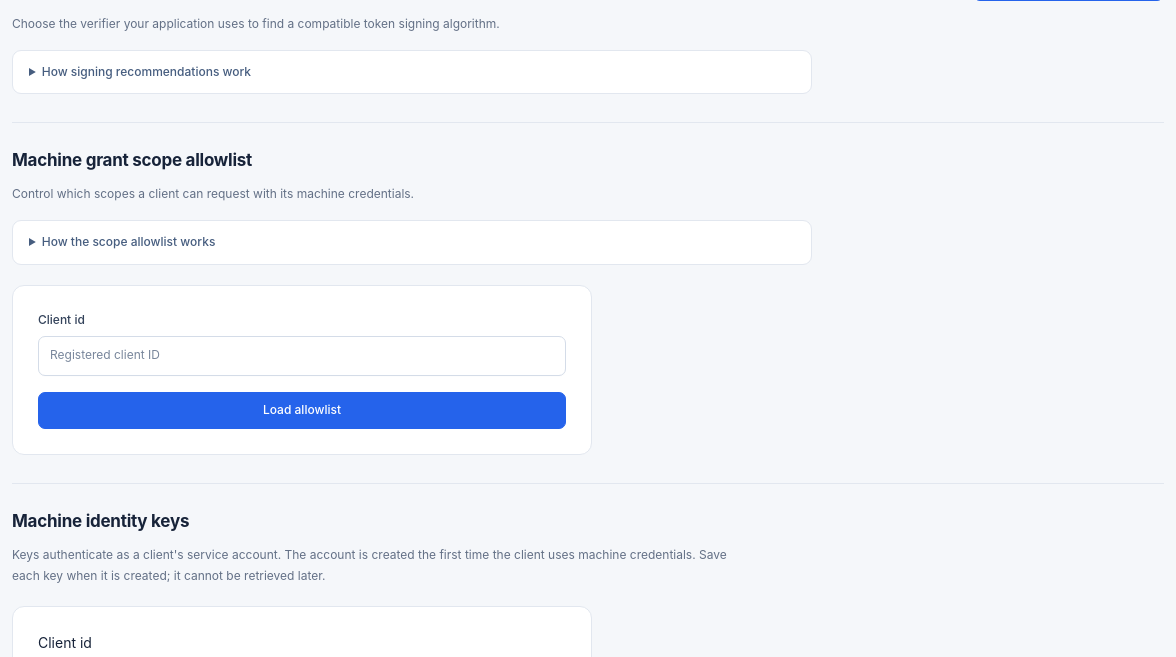
Scenario: the panel keeps the three server states distinct › renders an EMPTY allowlist as 'no scope at all', never as unrestricted
(page scrolled)
Type "cli_a" into the field with id "allowed-scopes-client-id".
click(302, 356); type("cli_a")  # box x1=38 y1=336 x2=566 y2=376
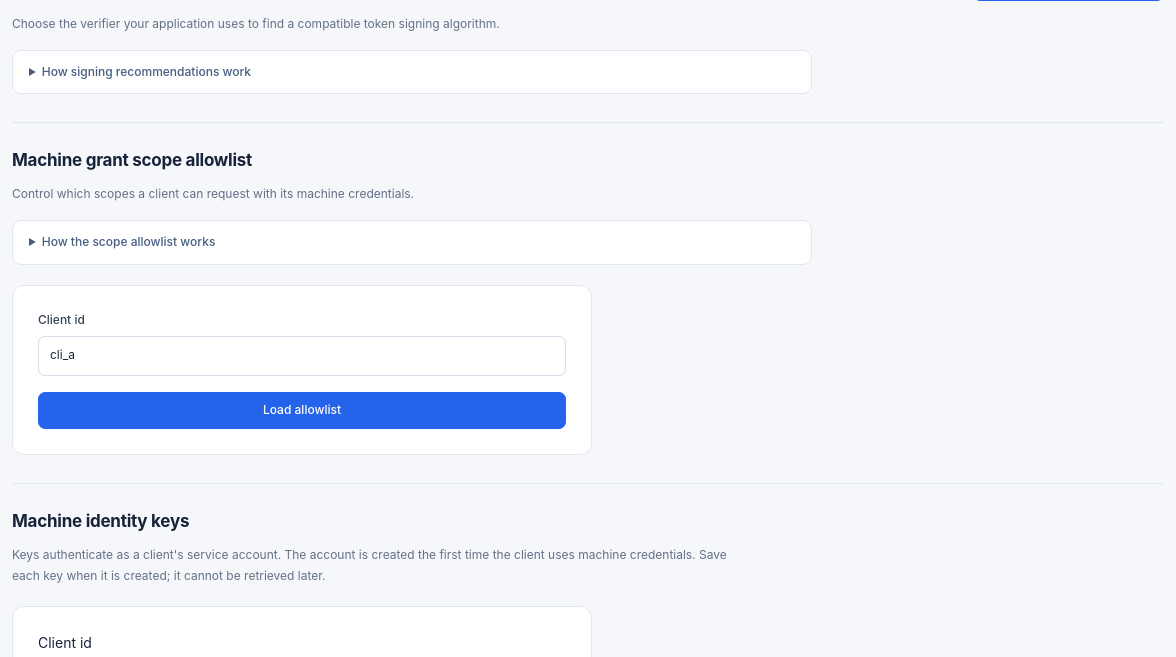
Click the button "Load allowlist".
click(302, 410)  # box x1=38 y1=392 x2=566 y2=429
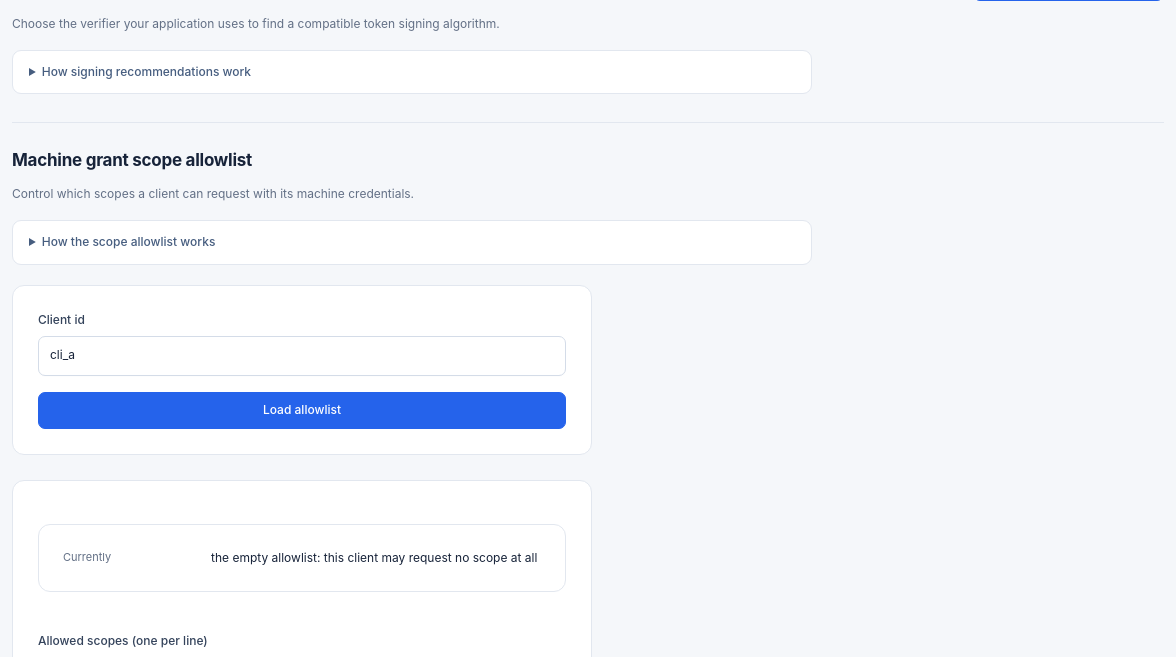
Expected: the text "may request no scope at all" is shown, x1=211 y1=550 x2=537 y2=565
